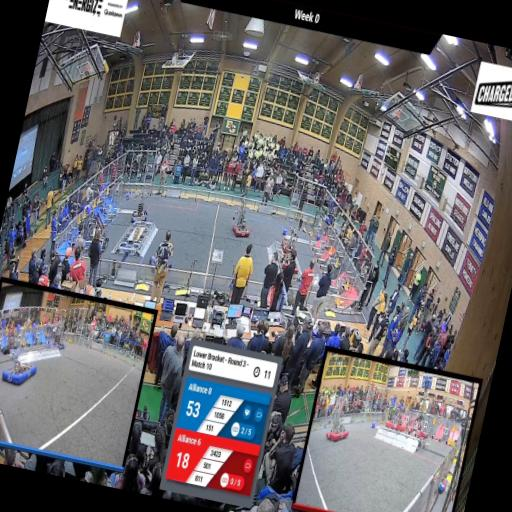robot: (226, 197, 256, 240), (85, 214, 114, 258), (147, 235, 178, 275), (276, 243, 304, 280), (126, 191, 152, 226), (278, 224, 301, 256)
